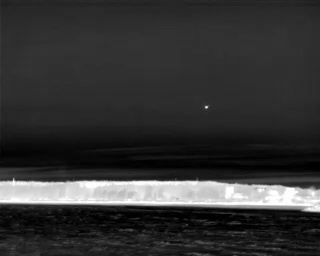HELICOPTER: (202, 102, 212, 114)
